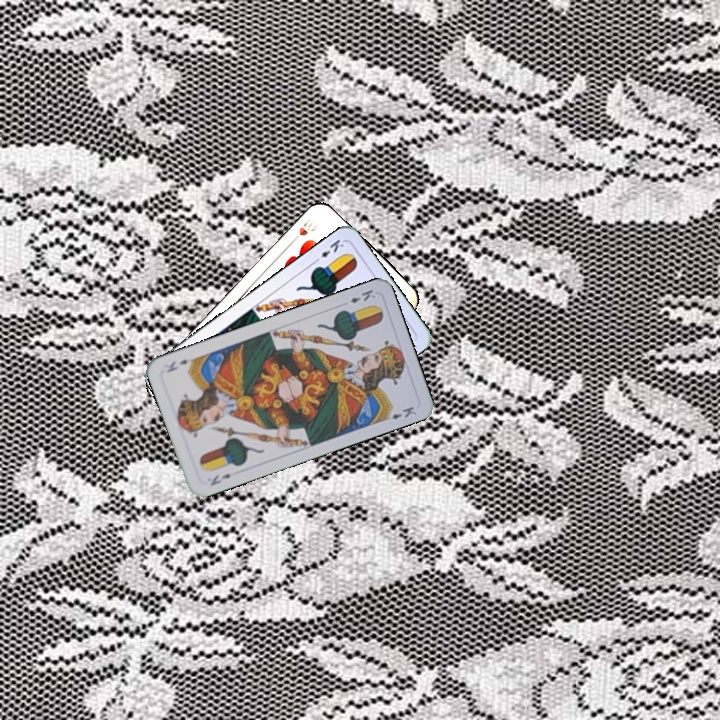EK: (309, 235, 347, 266), (346, 285, 378, 306), (206, 470, 234, 489)
H10: (287, 214, 320, 246)
